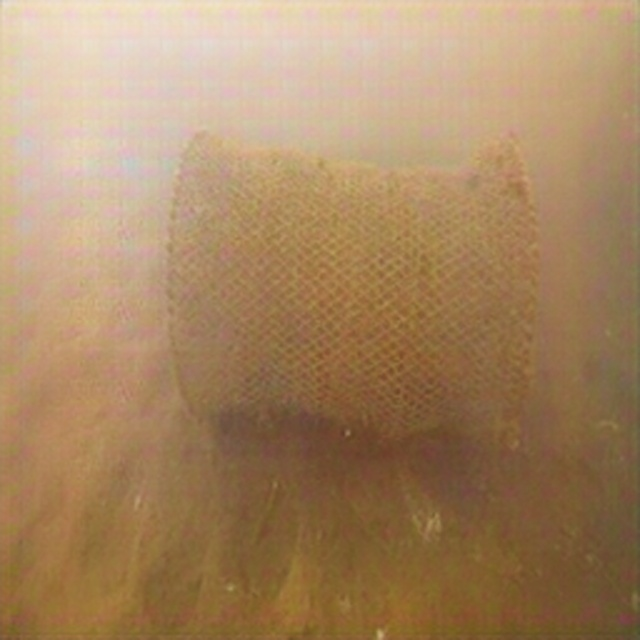mine: (163, 130, 543, 440)
